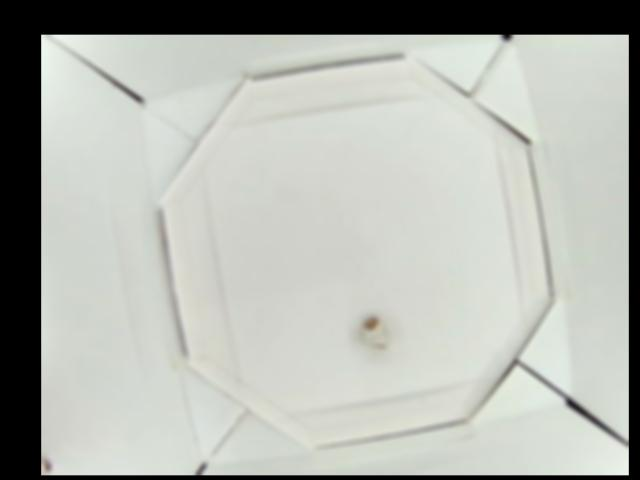China: (358, 316, 390, 346)
